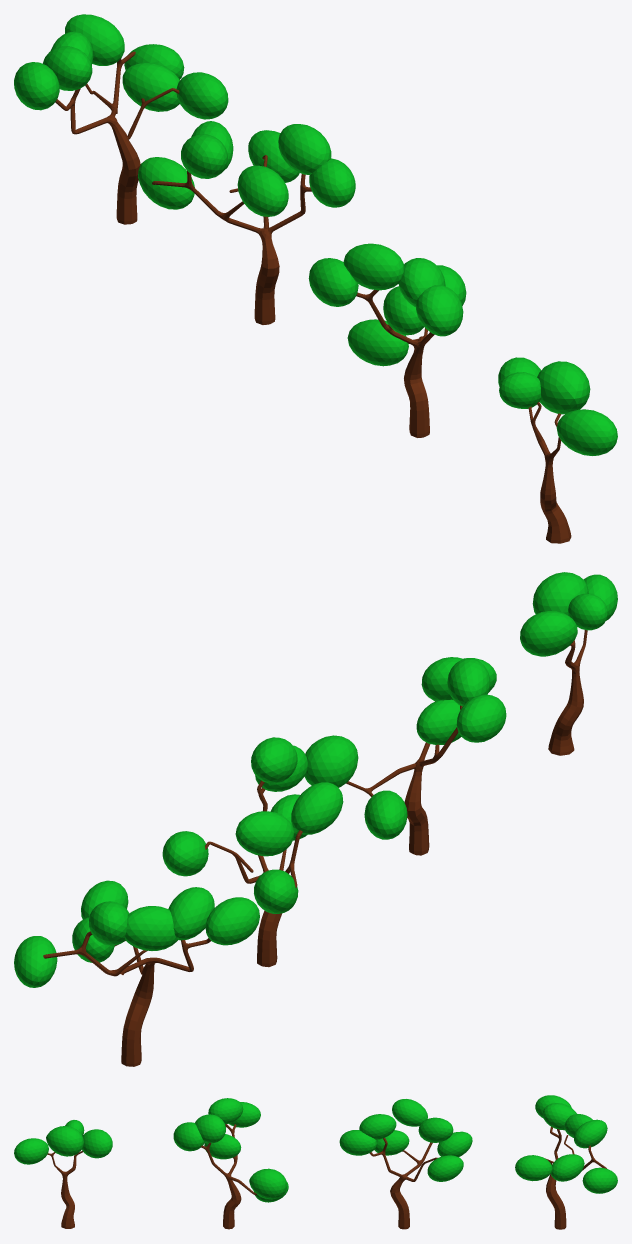
File: Trees.fbx
The picture shows the model from 3 angles, top to bottom: view 1: azimuth 30°, elevation 25°; view 2: azimuth 150°, elevation 25°; view 3: azimuth 270°, elevation 25°; orthographic projection. The views are drawn at different scales.
Visible parts, largest first — view 1: Cube.002, Icosphere.020, Cube.001, Cube.003; view 2: Icosphere.020, Cube.001, Cube.002, Cube.003; view 3: Cube.002, Icosphere.020, Cube.001, Cube.003.
Boxes of the visible parts, <box> form: Cube.002: <box>138,121,355,324</box>; Icosphere.020: <box>14,14,228,224</box>; Cube.001: <box>308,243,466,437</box>; Cube.003: <box>498,357,617,543</box>; Icosphere.020: <box>14,880,259,1066</box>; Cube.001: <box>304,657,506,855</box>; Cube.002: <box>162,737,343,967</box>; Cube.003: <box>520,572,617,755</box>; Cube.002: <box>339,1099,472,1229</box>; Icosphere.020: <box>515,1095,617,1229</box>; Cube.001: <box>173,1098,288,1229</box>; Cube.003: <box>14,1120,112,1228</box>.
Size of the model in its own units: 1119 by 1109 by 5166.
